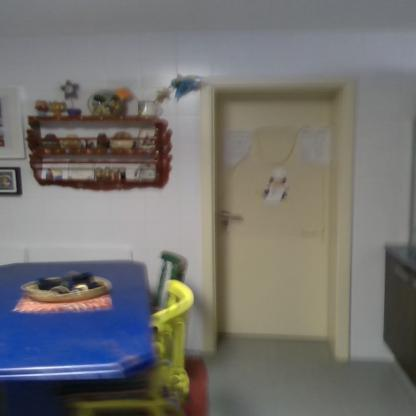door: (215, 95, 334, 337)
lever: (219, 214, 246, 223)
